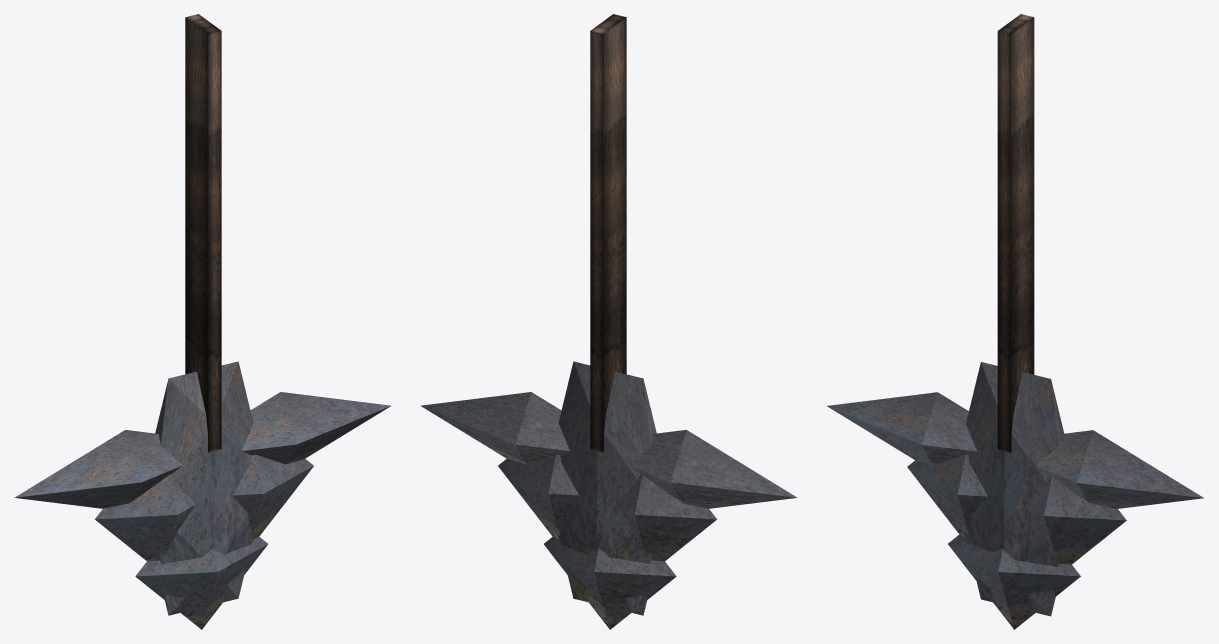
The model's file is pendulum.fbx.
3 views of the same model, side by side, from view 1: azimuth 30°, elevation 25°; view 2: azimuth 150°, elevation 25°; view 3: azimuth 330°, elevation 25° (orthographic).
Visible parts, largest first — view 1: Merged_Meshes, Box; view 2: Merged_Meshes, Box; view 3: Merged_Meshes, Box.
Boxes of the visible parts, x1,y1,x2,y2 form: Merged_Meshes: (14,361,391,629); Box: (185,14,221,452); Merged_Meshes: (420,361,797,629); Box: (590,14,626,452); Merged_Meshes: (827,362,1203,629); Box: (997,14,1034,452).
Size of the model in its own units: 2.83 by 4.34 by 0.4168.
2 materials, 2 textured.
